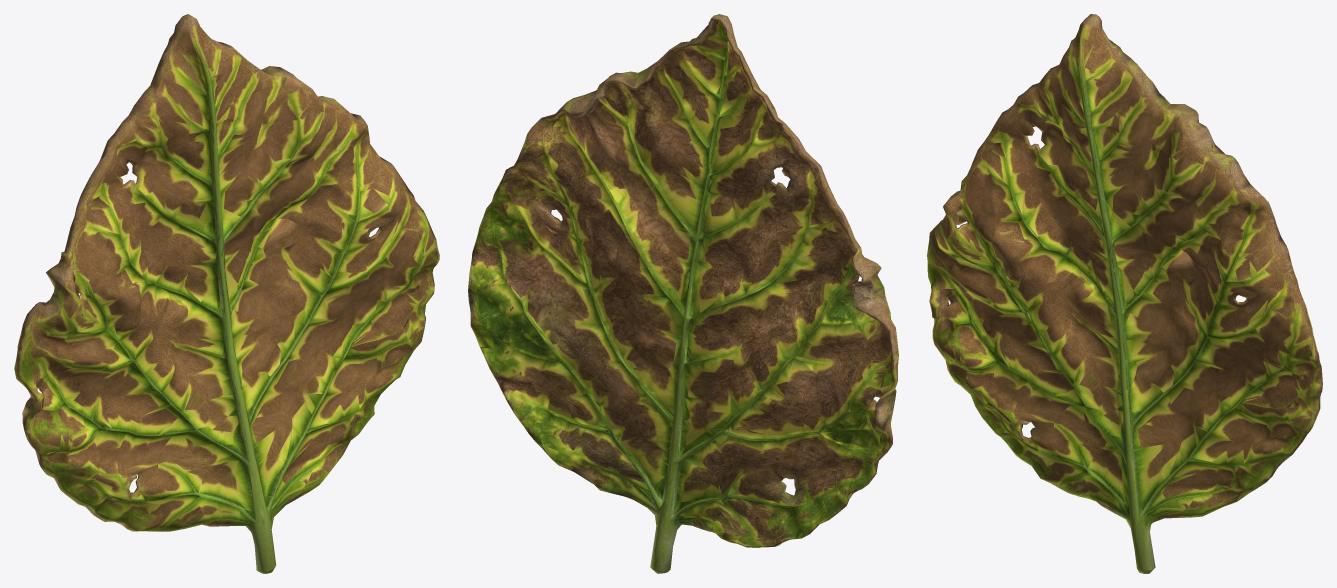
File: soybean_sudden_death_syndrome.glb
3 views of the same model, side by side, from view 1: azimuth 30°, elevation 25°; view 2: azimuth 150°, elevation 25°; view 3: azimuth 330°, elevation 25° (orthographic). The views are drawn at different scales.
Parts seen in each view (by area): view 1: soybean_sudden_death_syndrome; view 2: soybean_sudden_death_syndrome; view 3: soybean_sudden_death_syndrome.
Part boxes in pixels (box(x1,y1,x2,y2)): soybean_sudden_death_syndrome: box(14, 14, 439, 573); soybean_sudden_death_syndrome: box(468, 14, 898, 573); soybean_sudden_death_syndrome: box(927, 14, 1322, 573).
Bounding box in the file's own units: 0.7759 × 1 × 0.0999.
1 material, 1 textured.
